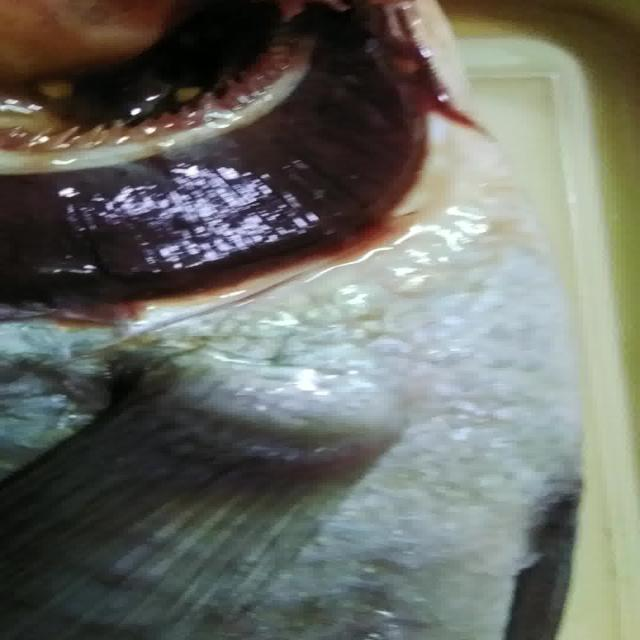Non-Fresh: (6, 9, 494, 334)
